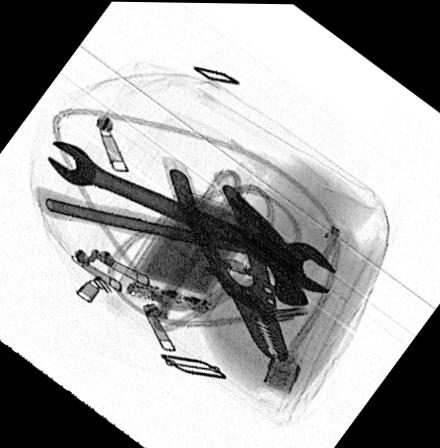Hammer: (34, 185, 310, 306)
Pliers: (161, 155, 291, 365)
Powerbank: (116, 185, 260, 315)
Wrench: (46, 139, 337, 293)
